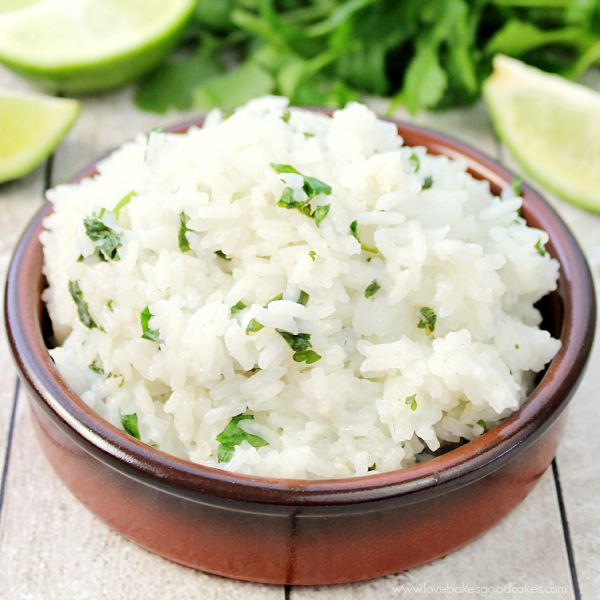plain rice: (84, 139, 491, 427)
